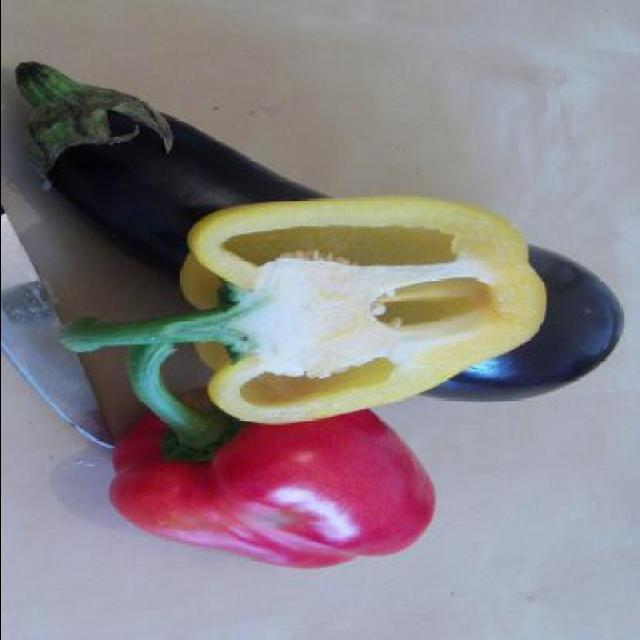Bell pepper: (54, 201, 546, 425), (103, 348, 439, 570)
